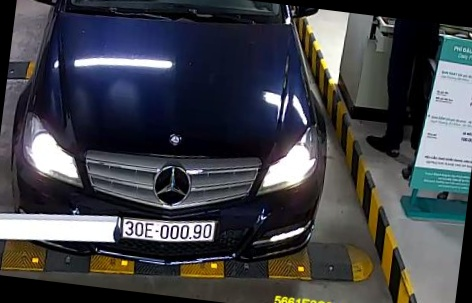plate: (121, 213, 217, 248)
